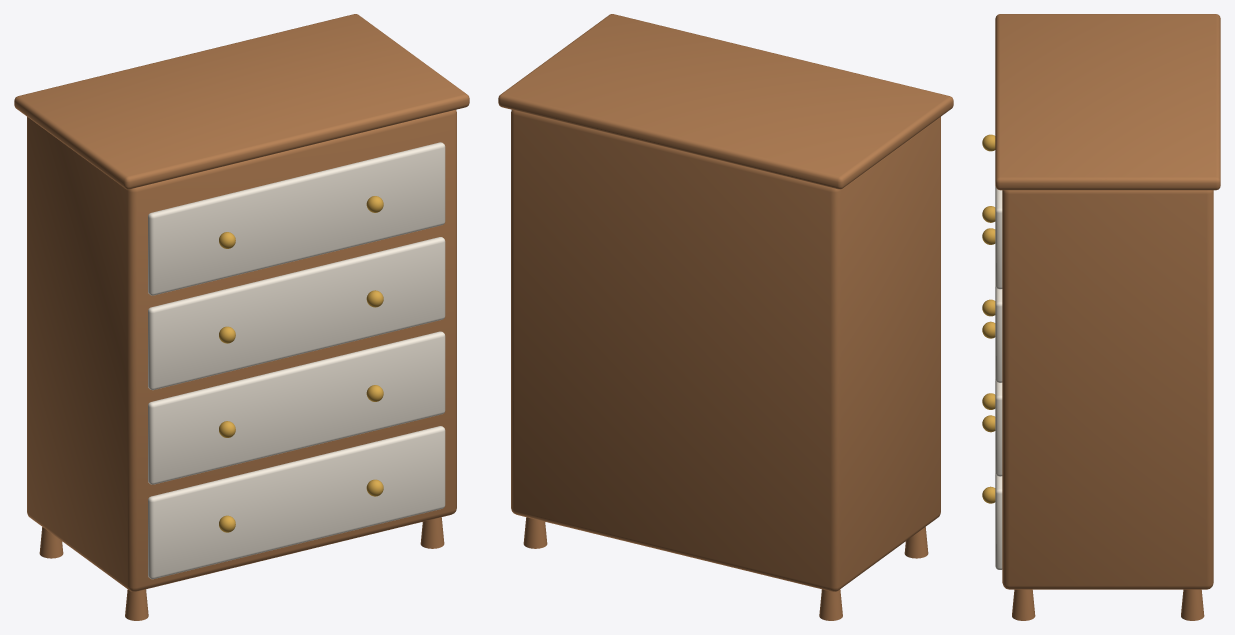
The model's file is drawer.glb.
3 renders of one model, left to right at view 1: azimuth 30°, elevation 25°; view 2: azimuth 150°, elevation 25°; view 3: azimuth 270°, elevation 25°, orthographic.
Visible parts, largest first — view 1: carcass, top.001, dr1, dr3, dr0, dr2, f-1-1, f1-1; view 2: carcass, top.001, f-11, f11; view 3: carcass, top.001, dr3, dr1, dr0, dr2, f1-1, f11.
Part boxes in pixels (left/top/right/bottom): carcass: left=27, top=110, right=456, bottom=591; top.001: left=14, top=14, right=469, bottom=189; dr1: left=148, top=331, right=445, bottom=484; dr3: left=148, top=142, right=445, bottom=295; dr0: left=148, top=426, right=445, bottom=579; dr2: left=148, top=237, right=445, bottom=390; f-1-1: left=125, top=589, right=148, bottom=620; f1-1: left=420, top=517, right=444, bottom=548; carcass: left=511, top=110, right=940, bottom=591; top.001: left=498, top=14, right=953, bottom=189; f-11: left=819, top=589, right=842, bottom=620; f11: left=523, top=517, right=547, bottom=548; carcass: left=1002, top=190, right=1213, bottom=589; top.001: left=995, top=14, right=1220, bottom=190; dr3: left=995, top=186, right=1002, bottom=289; dr1: left=995, top=379, right=1002, bottom=476; dr0: left=995, top=473, right=1002, bottom=569; dr2: left=995, top=286, right=1002, bottom=382; f1-1: left=1012, top=589, right=1035, bottom=620; f11: left=1181, top=589, right=1204, bottom=620.
Bounding box in the file's own units: 0.84 × 1.05 × 0.508.
